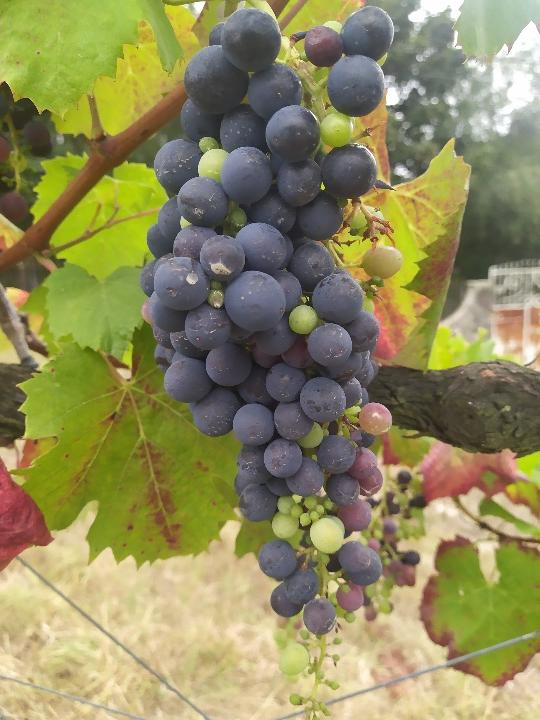grape: (139, 5, 400, 720)
